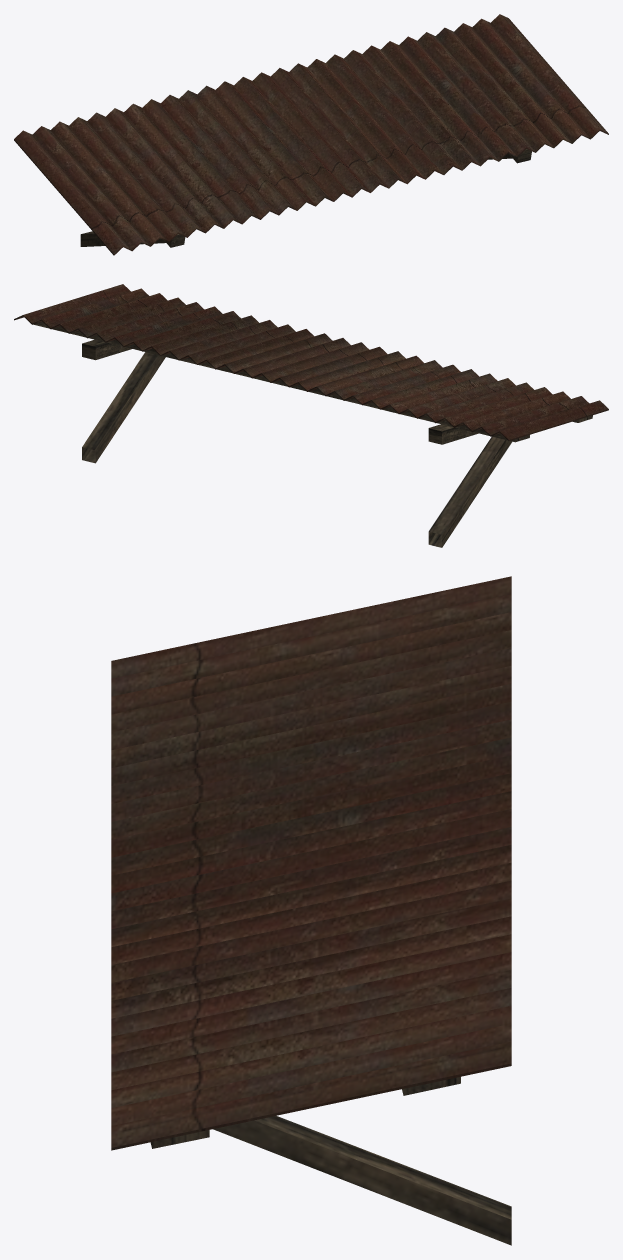
The model's file is roof_small_hr_1.dae.
3 renders of one model, top to bottom at view 1: azimuth 30°, elevation 25°; view 2: azimuth 150°, elevation 25°; view 3: azimuth 270°, elevation 25°, orthographic. The views are drawn at different scales.
Parts seen in each view (by area): view 1: roof_small_hr_1; view 2: roof_small_hr_1; view 3: roof_small_hr_1.
Boxes of the visible parts, x1,y1,x2,y2 form: roof_small_hr_1: (14,14,608,255); roof_small_hr_1: (14,284,608,547); roof_small_hr_1: (111,576,511,1245).
Bounding box in the file's own units: 4 × 1.4 × 1.01.
2 materials, 2 textured.
